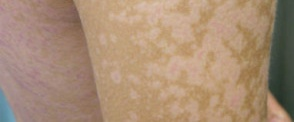SJS-TEN: (94, 1, 277, 122), (0, 0, 104, 122)
